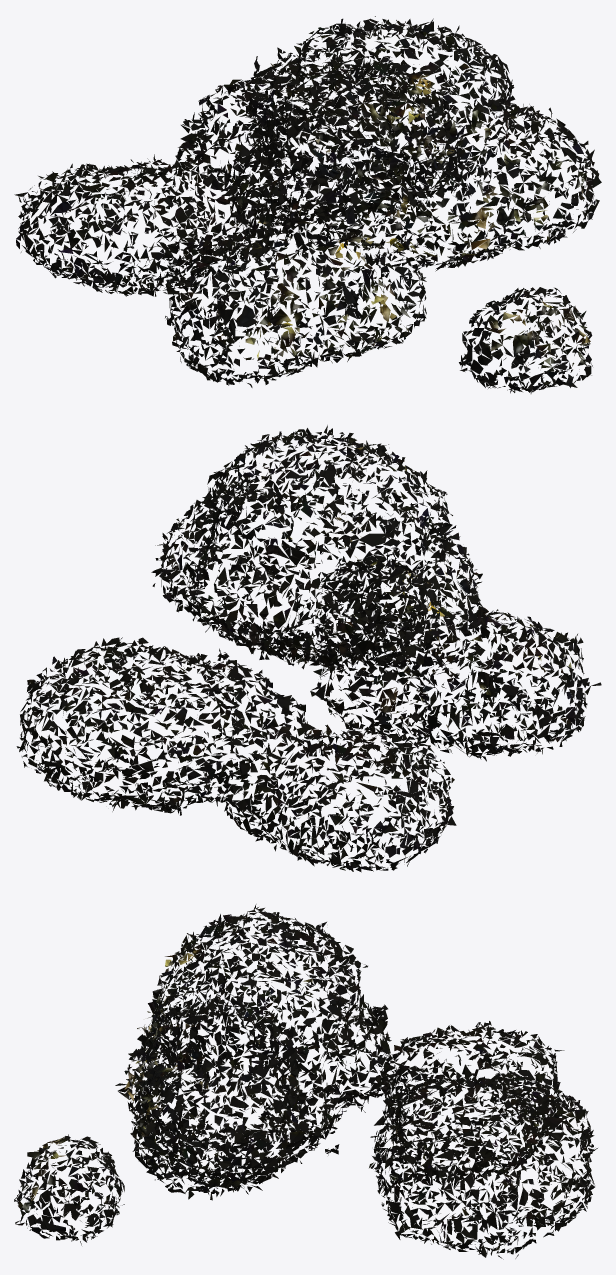
File: stylized-tree-raw_preview.glb
The picture shows the model from 3 angles, top to bottom: view 1: azimuth 30°, elevation 25°; view 2: azimuth 150°, elevation 25°; view 3: azimuth 270°, elevation 25°; orthographic projection. The views are drawn at different scales.
Visible parts, largest first — view 1: geometry_0; view 2: geometry_0; view 3: geometry_0.
Boxes of the visible parts, <box> form: geometry_0: <box>14,16,601,393</box>; geometry_0: <box>16,425,601,872</box>; geometry_0: <box>14,904,597,1259</box>.
Bounding box in the file's own units: 1.53 × 1.06 × 1.97.
1 material, 1 textured.
